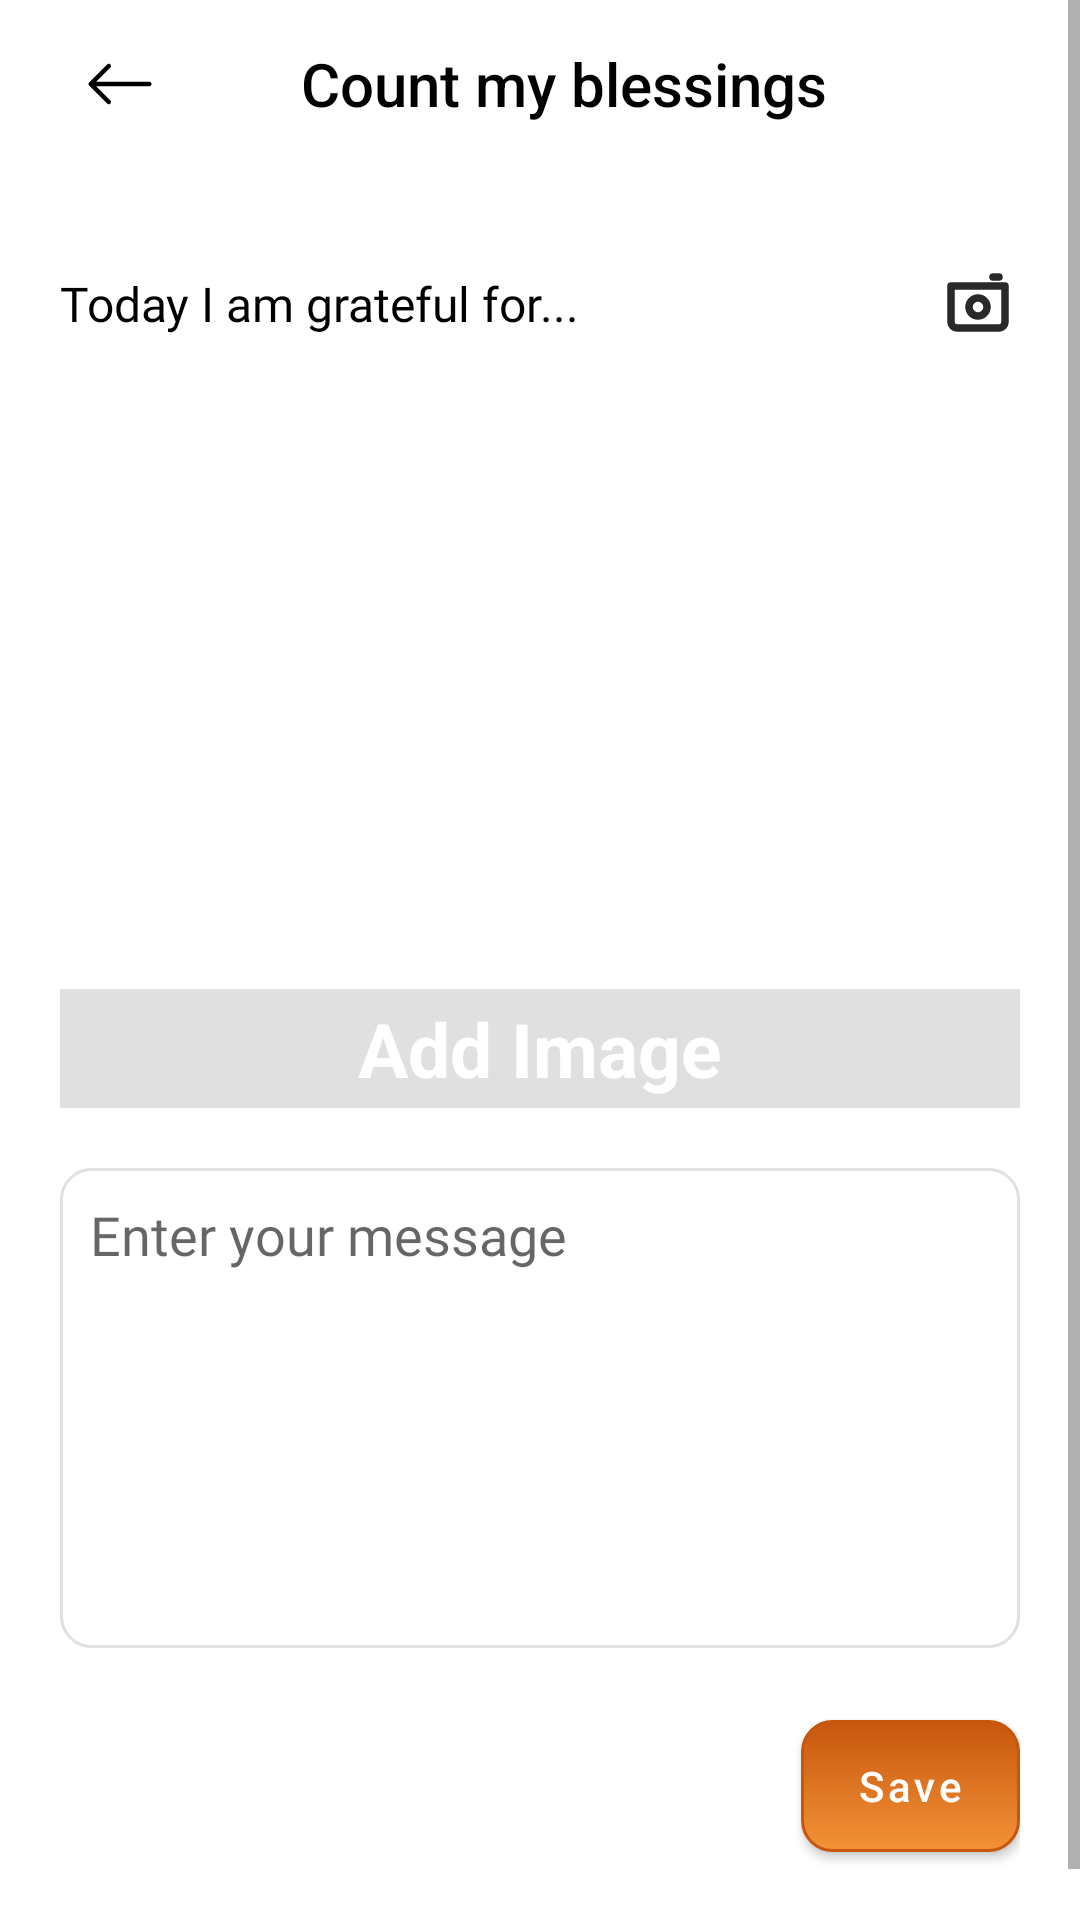

Where to tap for icons on this 1080x1920 app screen, as point (x, y):
back: point (120, 84)
camera: point (978, 302)
